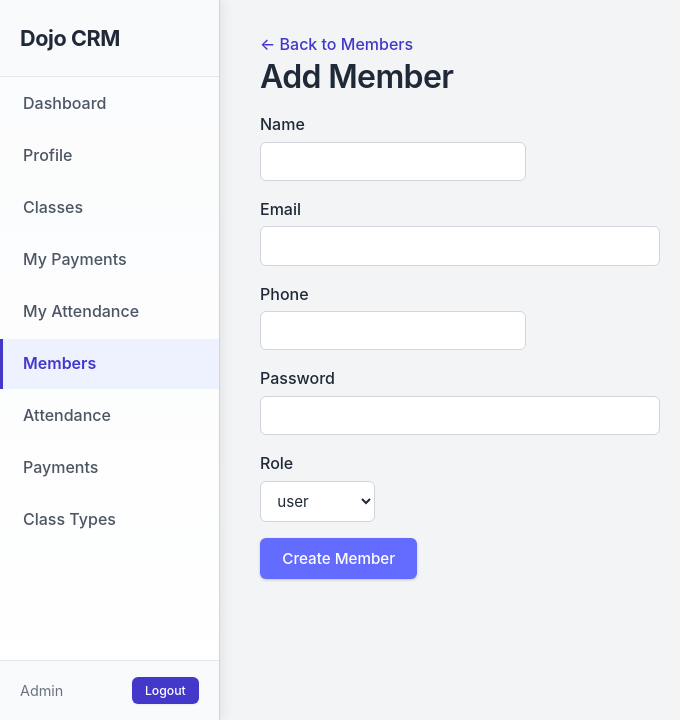
AddMember › creates a member and navigates to members list
Check: the heading "Add Member" is shown, box [260,57,453,96]
Type "New Person" into the field labelled "Name" at (393, 161), box [260,142,526,181]
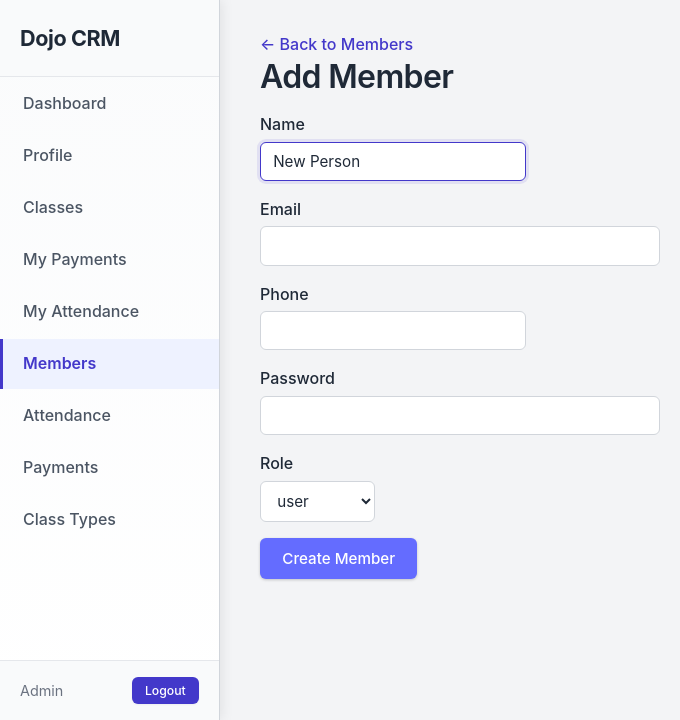
Type "new@example.com" into the field labelled "Email" at (460, 246), box [260,226,660,266]
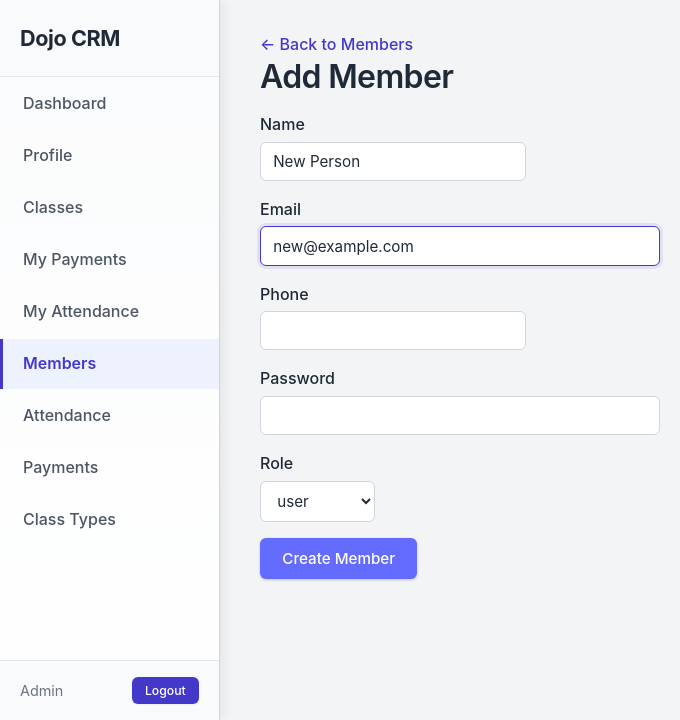
Type "555-1234" into the field labelled "Phone" at (393, 331), box [260,311,526,350]
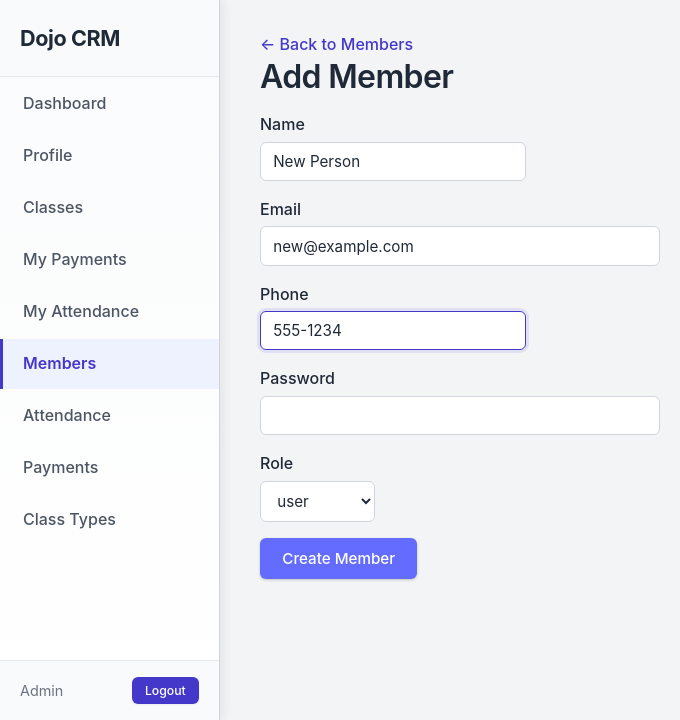
Type "secret123" into the password field labelled "Password" at (460, 416), box [260,396,660,435]
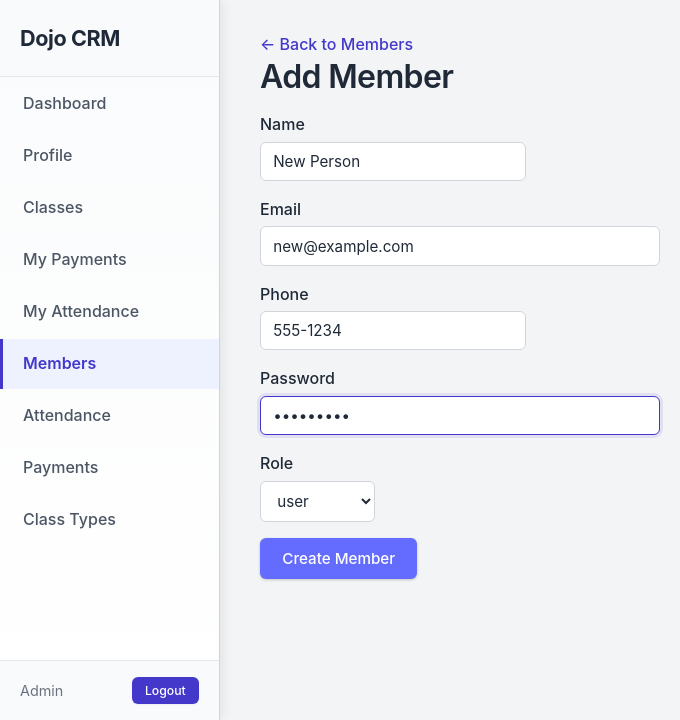
Select "instructor" in the dropdown labelled "Role" at (318, 501), box [260,481,375,522]
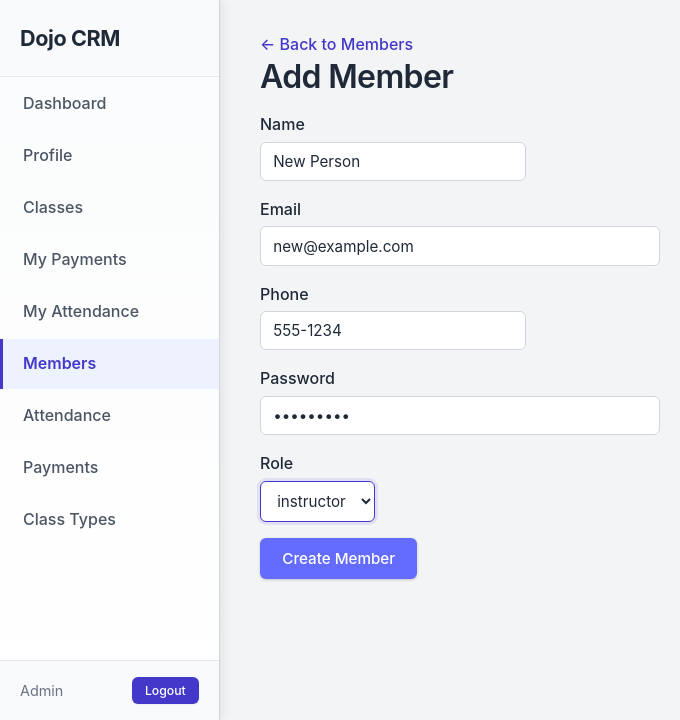
Click the button "Create Member" at (339, 558), box [260,538,417,579]
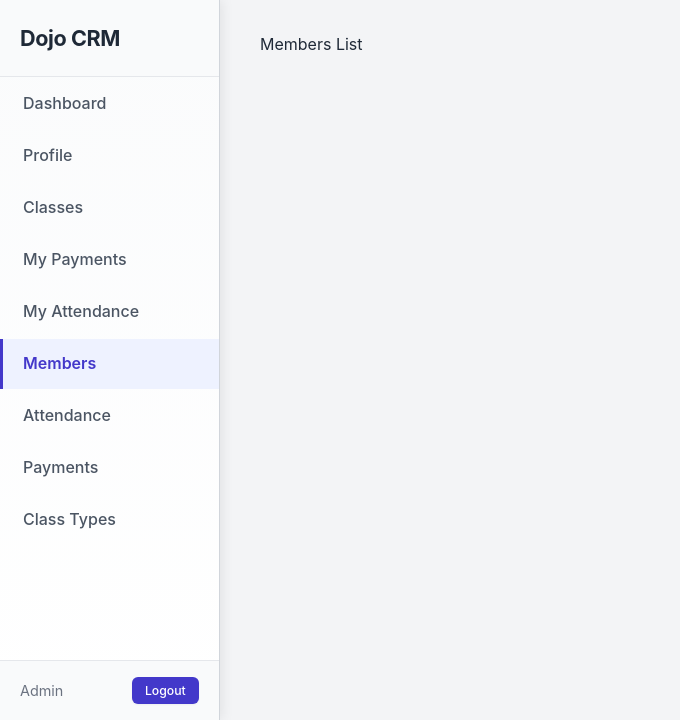
Check: the text "Members List" is shown, box [260,34,362,54]
